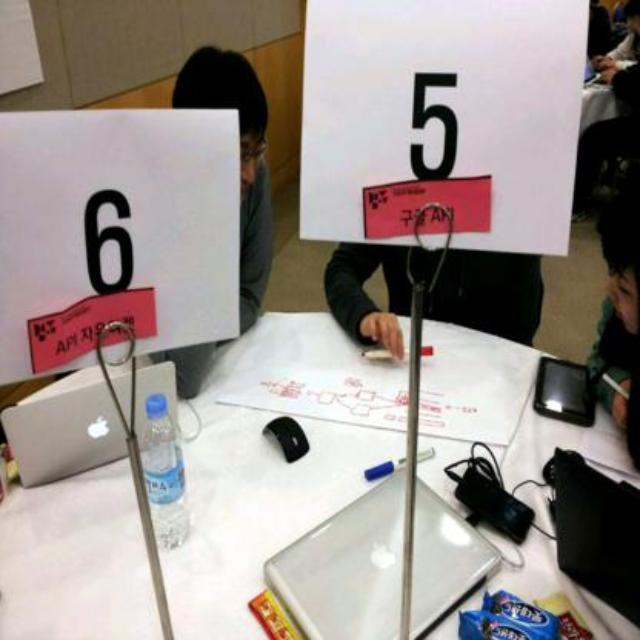Laptop: (0, 376, 234, 494)
